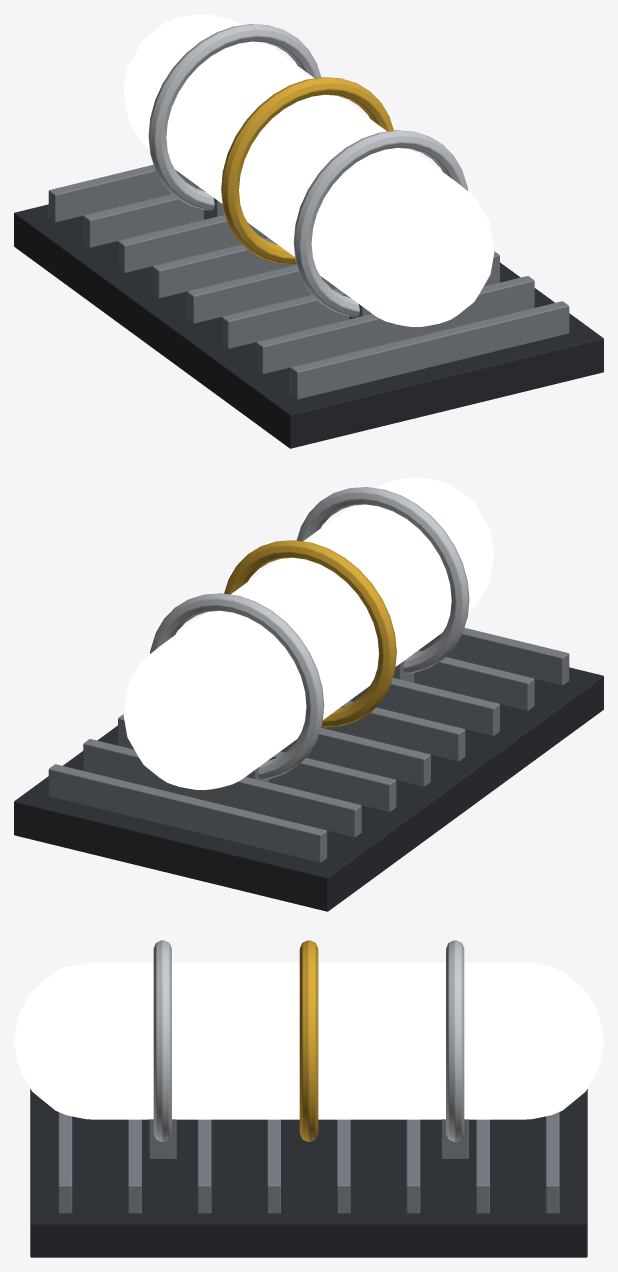
Rendered from bastion_utility_dome.fbx.
3 renders of one model, top to bottom at view 1: azimuth 30°, elevation 25°; view 2: azimuth 150°, elevation 25°; view 3: azimuth 270°, elevation 25°, orthographic.
Visible parts, largest first — view 1: Utility_Dome; view 2: Utility_Dome; view 3: Utility_Dome.
Part boxes in pixels (x1,y1,x2,y2): Utility_Dome: (14, 14, 603, 448); Utility_Dome: (14, 477, 603, 911); Utility_Dome: (14, 940, 603, 1257).
Size of the model in its own units: 34.65 by 24.22 by 55.92.
